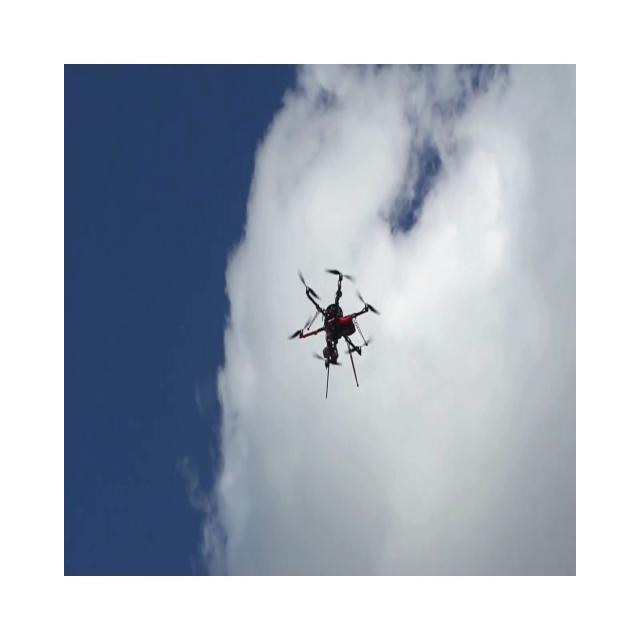drone: (287, 266, 380, 398)
